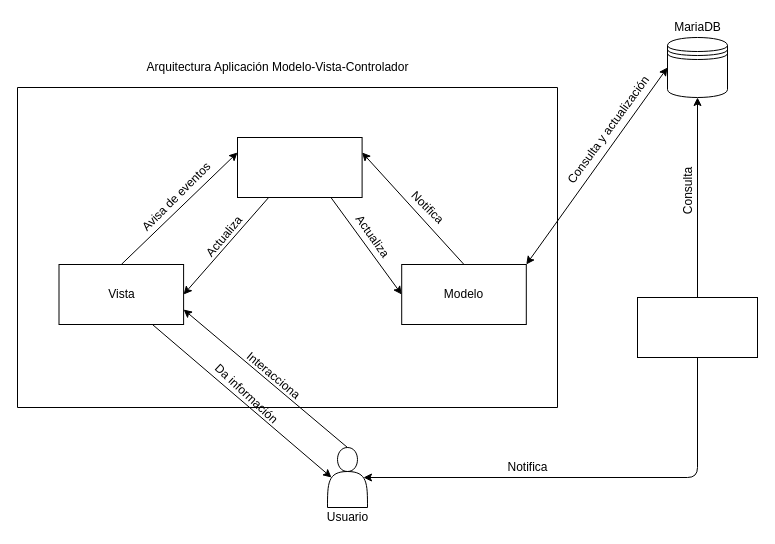
Some shapes in this 775 by 544 pixel diagram are drawn without their labels. Here are the shapes that lost their labels. From the top down, the centre of each, then its label:
point 299,167: Controlador
point 697,327: Object Recognition Application
